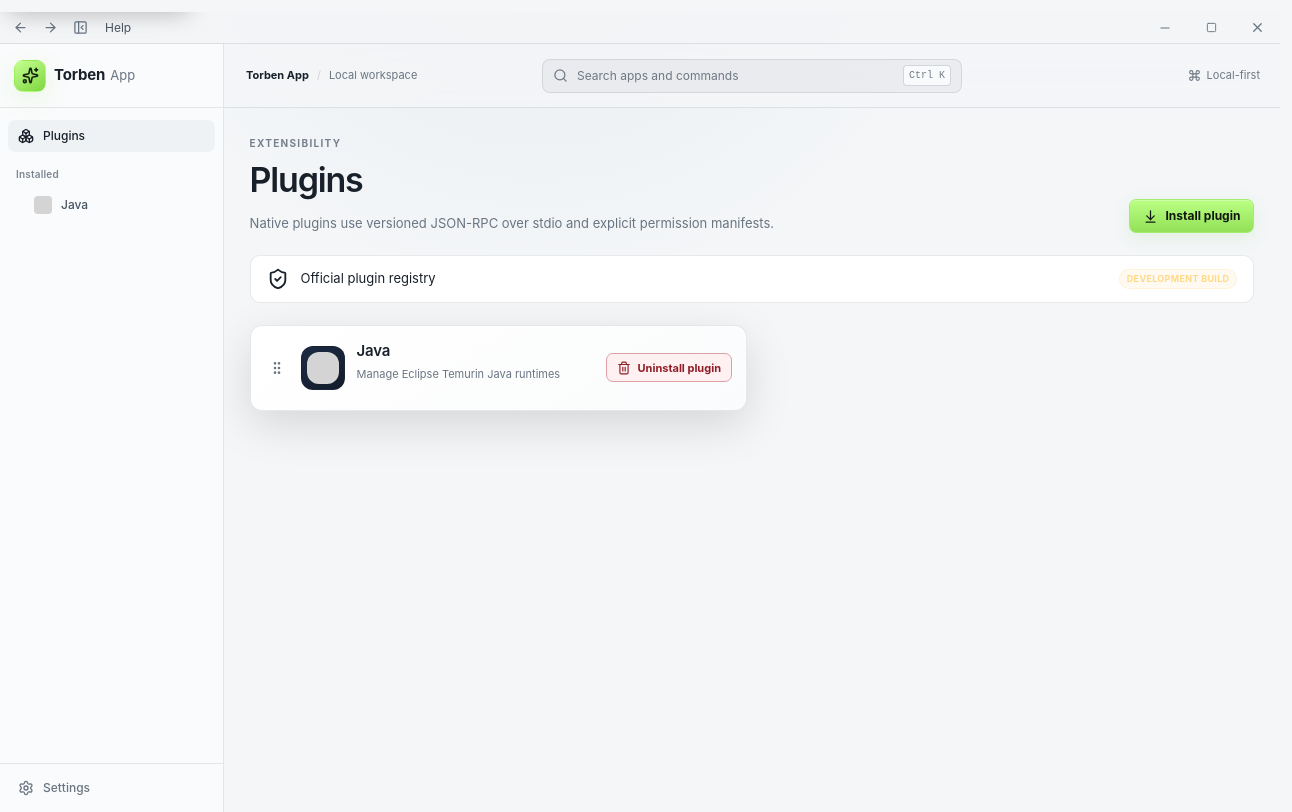
Torben App shell › adds Java to the sidebar when the Java plugin is installed
Expected: the heading "Plugins" is shown, 250,159 -> 363,200
Expected: the text "Installed" is shown, 16,168 -> 59,180
Click the link "Java" at (61, 205), box 34,196 -> 88,214
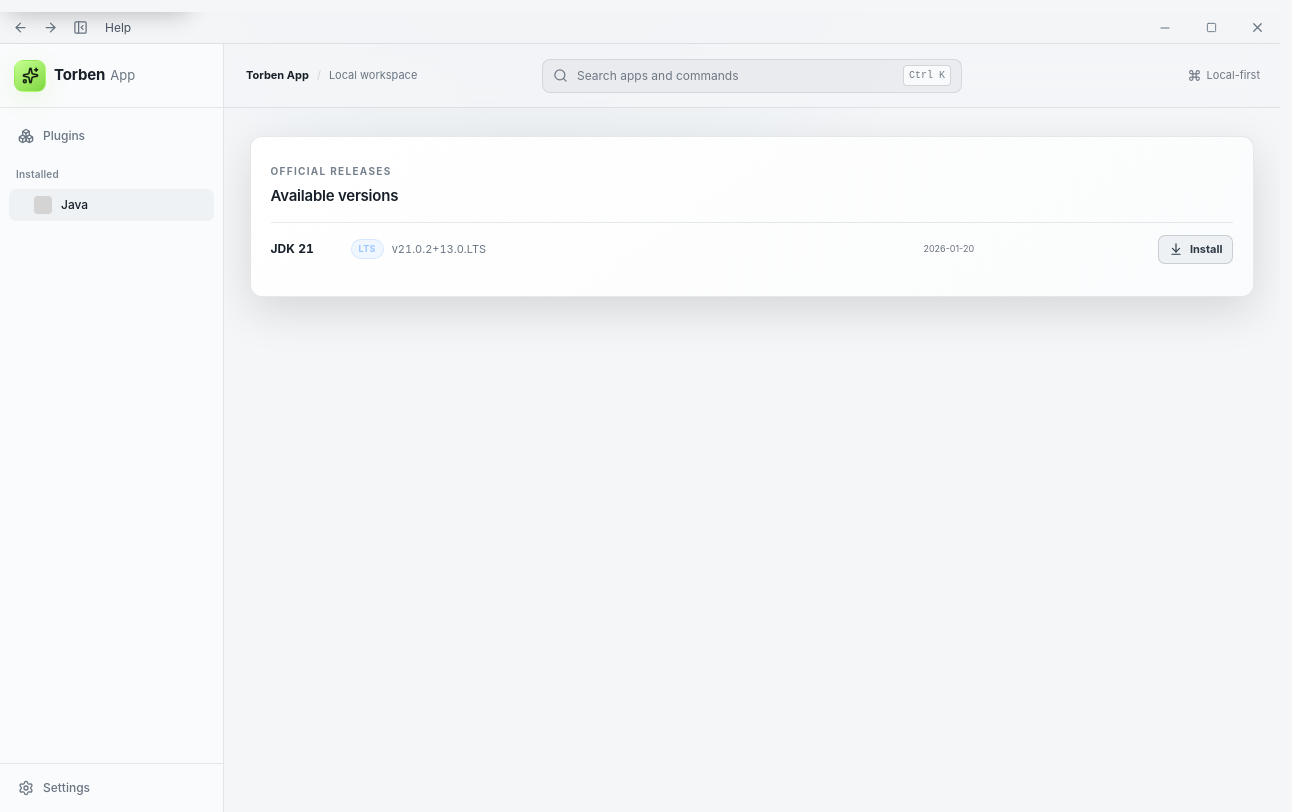
Result: the heading "Available versions" is shown at 271,185 -> 398,208
